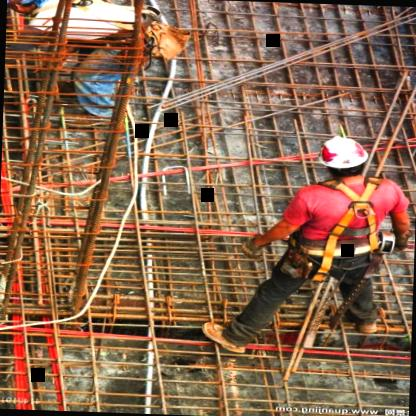helmet: (314, 136, 372, 179), (6, 0, 47, 16)
